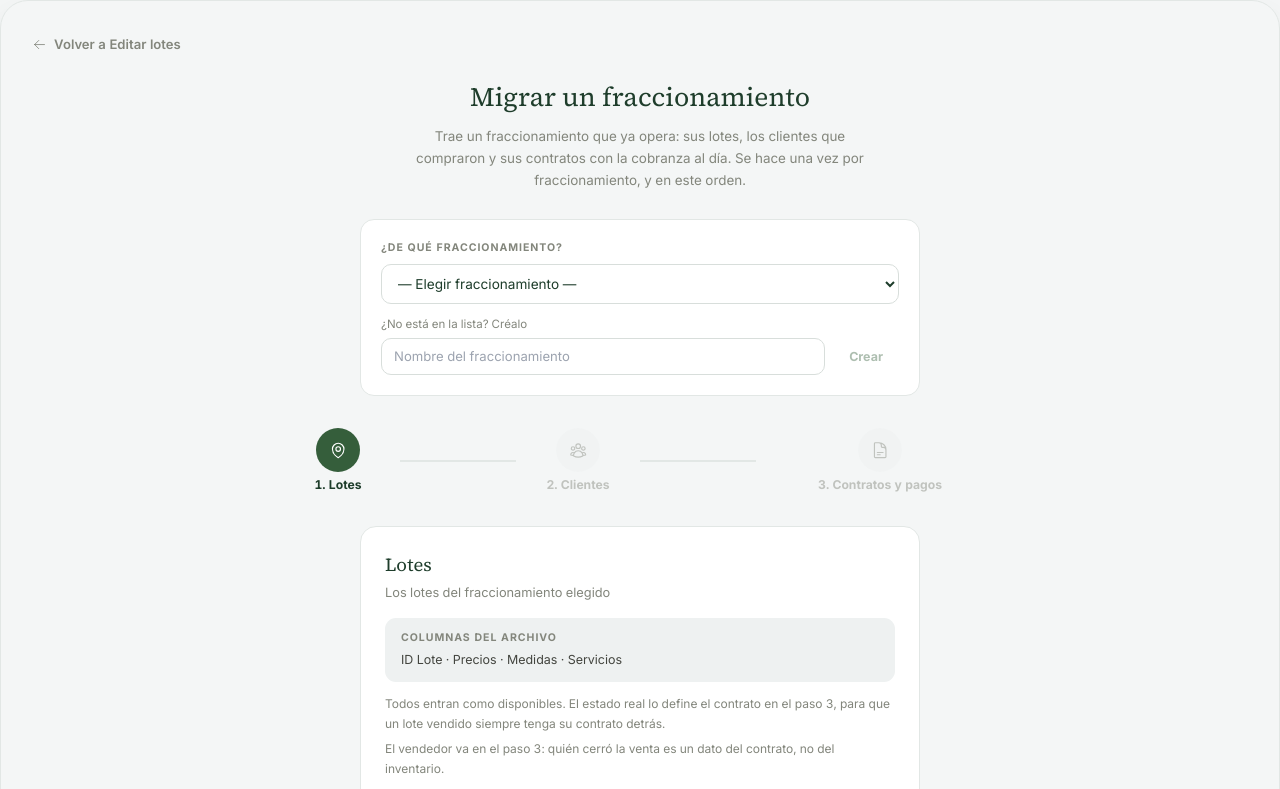
Test: Asistente de migración: el plano › ofrece cargar el plano al elegir un fraccionamiento que no tiene
Step 1. Select "Los Pinos" in the dropdown → (640, 284), box [381, 264, 899, 304]
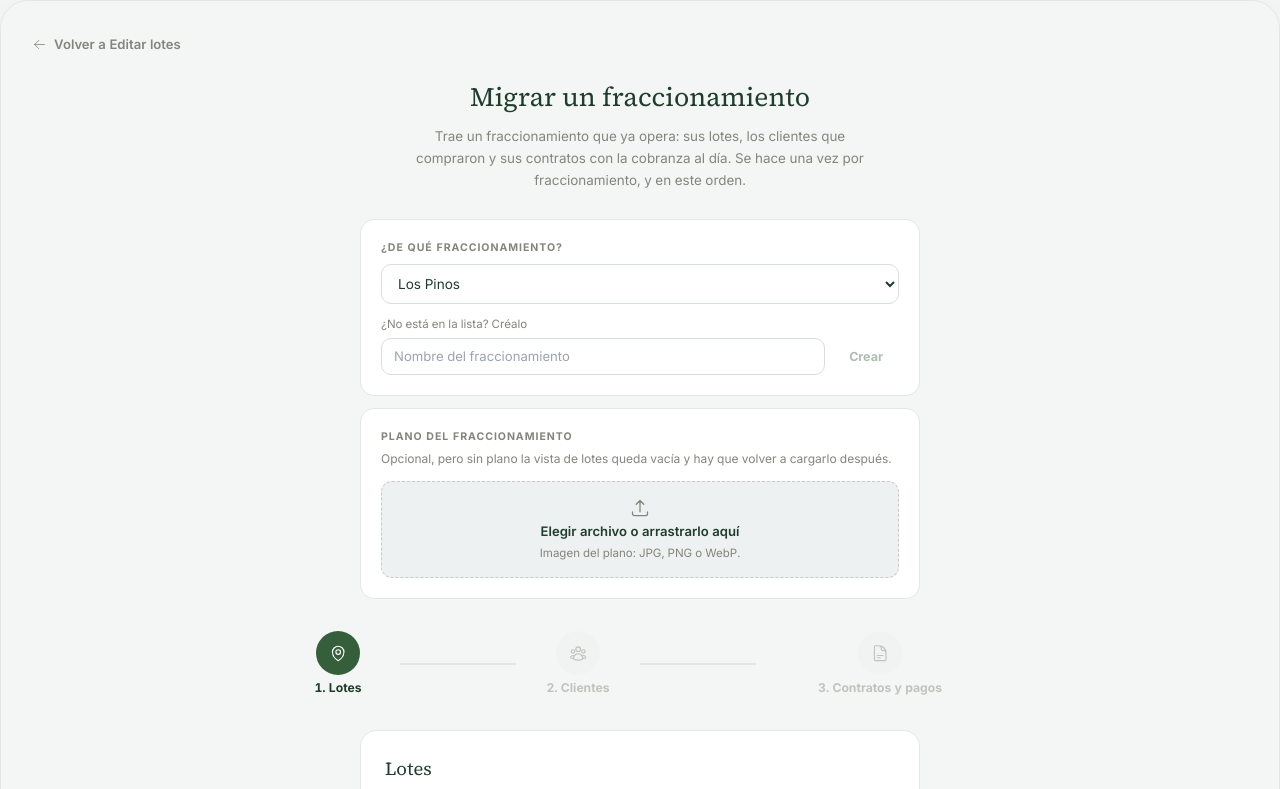
Expected: the text "Plano del fraccionamiento" is shown, [381, 430, 572, 443]
Expected: the text "la vista de lotes queda vacía" is shown, [381, 451, 892, 466]
